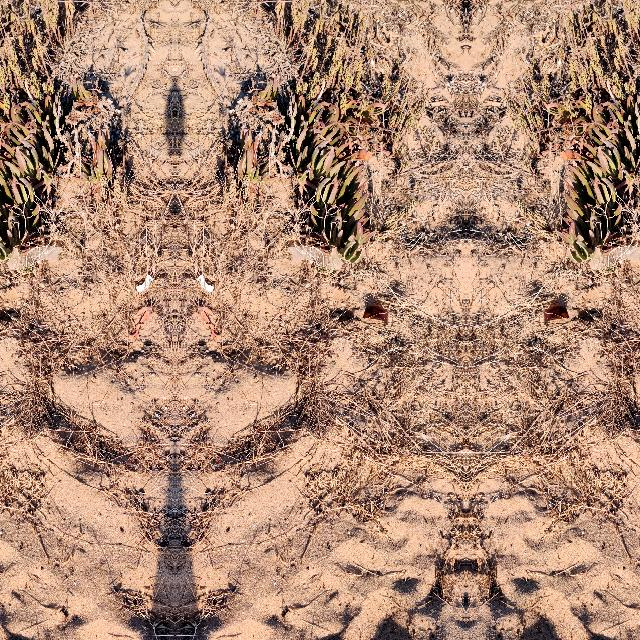Glass: (361, 304, 389, 326), (542, 304, 570, 326)
Paper: (195, 272, 215, 294), (133, 272, 153, 294)
Plastic: (284, 243, 348, 275), (1, 243, 64, 275), (583, 243, 640, 275)
